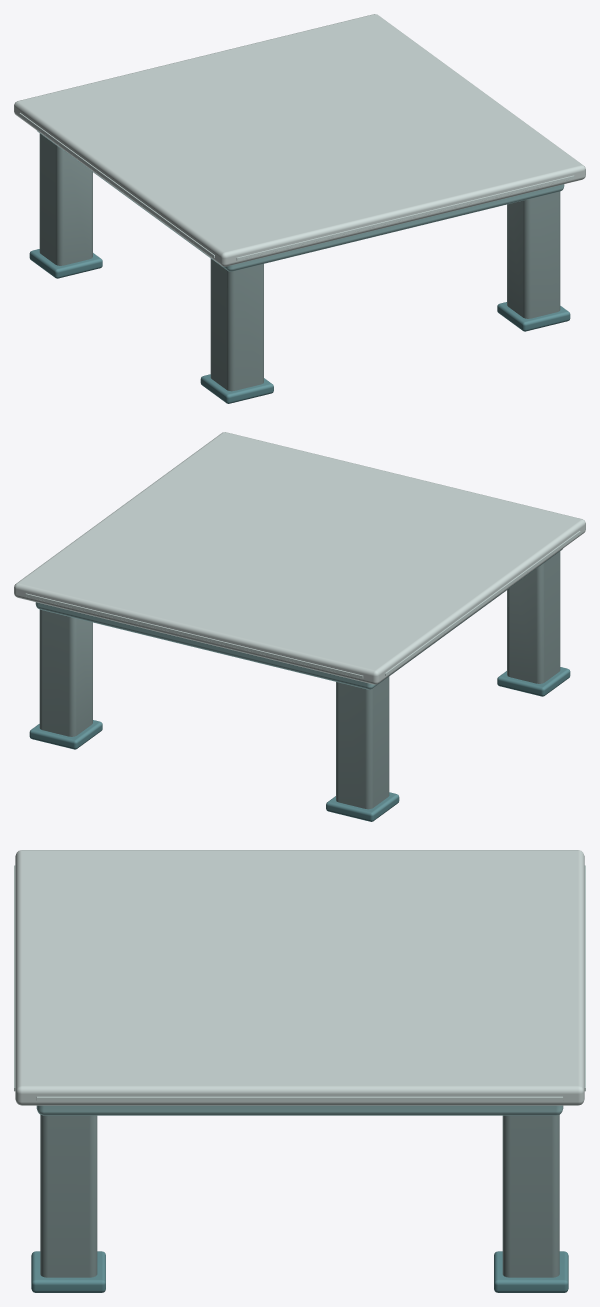
The model's file is tower.glb.
3 views of the same model, one above another, from view 1: azimuth 30°, elevation 25°; view 2: azimuth 150°, elevation 25°; view 3: azimuth 270°, elevation 25° (orthographic). The views are drawn at different scales.
Parts seen in each view (by area): view 1: tower; view 2: tower; view 3: tower.
Part boxes in pixels (x1,y1,x2,y2): tower: [14, 14, 585, 403]; tower: [14, 432, 585, 821]; tower: [14, 850, 585, 1292].
Bounding box in the file's own units: 16.08 × 6.6 × 16.08.
